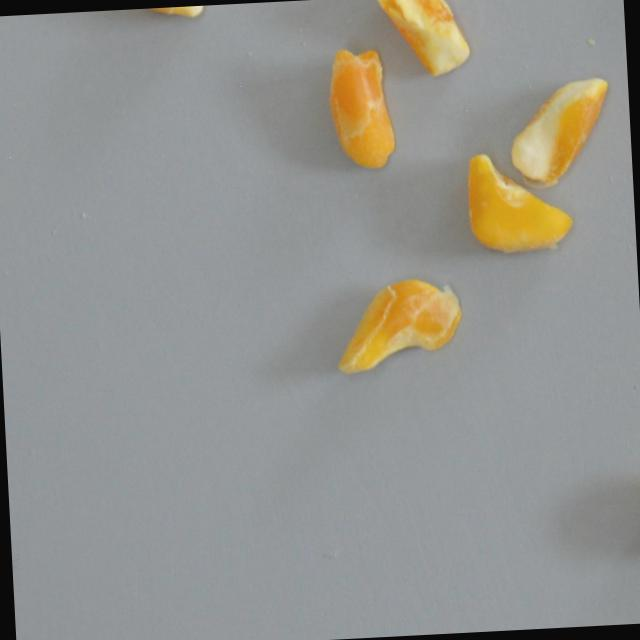dañado: (328, 261, 470, 379), (458, 137, 579, 258), (502, 69, 617, 194), (323, 40, 398, 177), (366, 0, 476, 86), (634, 465, 640, 560)
pelicula: (123, 4, 233, 21)
